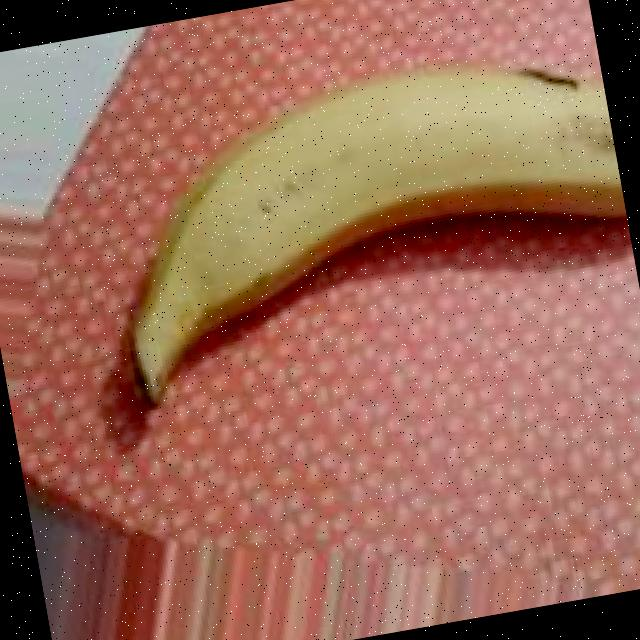banana: (46, 21, 640, 447)
